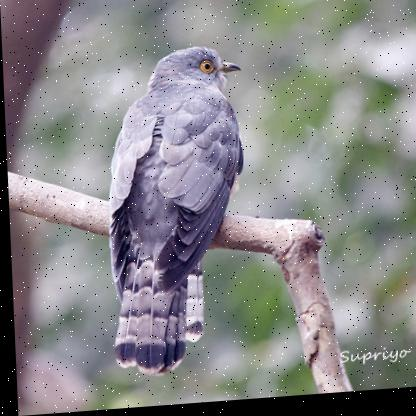Burung: (100, 46, 250, 381)
